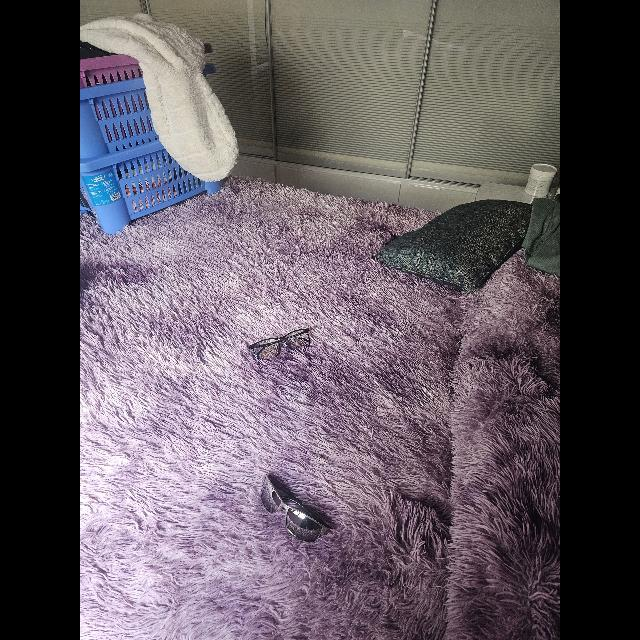Sunglasses: (260, 474, 330, 542)
glasses: (248, 328, 310, 359)
